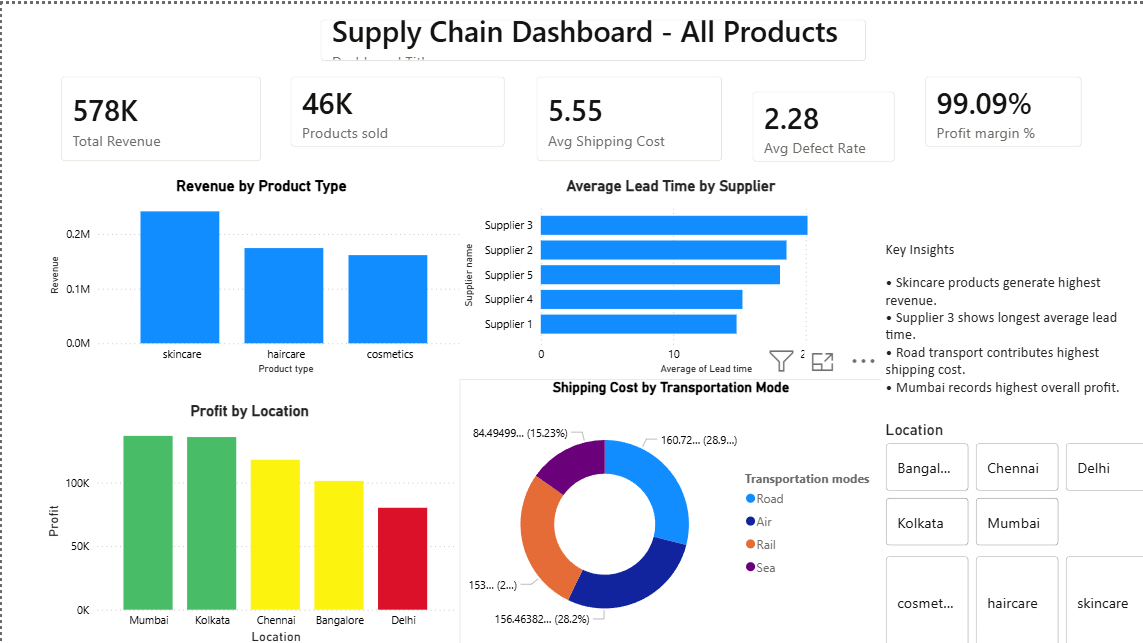

This screenshot's page, from the dashboard's own definition file:
{"tool":"powerbi","page":{"name":" Executive Dashboard","canvas":[1280,720],"ordinal":0},"visuals":[{"type":"cardVisual","fields":{"Data":["Sum(supply_chain_data.Revenue)"]},"box":[48,64,256,128],"z":0},{"type":"cardVisual","fields":{"Data":["Sum(supply_chain_data.Products sold)"]},"box":[304,64,272,112],"z":1000},{"type":"cardVisual","fields":{"Data":["Avg(supply_chain_data.Shipping Cost)"]},"box":[576,64,240,128],"z":2000},{"type":"cardVisual","fields":{"Data":["Avg(supply_chain_data.Defect Rate)"]},"box":[816,80,192,112],"z":3000},{"type":"clusteredColumnChart","title":"Revenue by Product Type","fields":{"Category":["supply_chain_data.Product type"],"Y":["Sum(supply_chain_data.Revenue)"]},"box":[48,192,480,224],"z":4000},{"type":"clusteredBarChart","title":"Average Lead Time by Supplier","fields":{"Category":["supply_chain_data.Supplier name"],"Y":["Avg(supply_chain_data.Lead time)"]},"box":[508,192,470,224],"z":5000},{"type":"donutChart","title":"Shipping Cost by Transportation Mode","fields":{"Category":["supply_chain_data.Transportation modes"],"Y":["Sum(supply_chain_data.Shipping Cost)"]},"box":[508,416,470,304],"z":6000},{"type":"advancedSlicerVisual","fields":{"Values":["supply_chain_data.Product type"]},"box":[976,608,304,112],"z":7000},{"type":"clusteredColumnChart","fields":{"Y":["Sum(supply_chain_data.Profit)"],"Category":["supply_chain_data.Location"]},"box":[44,442,464,274],"z":8000},{"type":"advancedSlicerVisual","fields":{"Values":["supply_chain_data.Location"]},"box":[976,464,304,144],"z":9000},{"type":"textbox","box":[976,256,304,208],"z":10000},{"type":"cardVisual","fields":{"Data":["supply_chain_data.Profit margin %"]},"box":[1008,64,208,112],"z":11000},{"type":"cardVisual","fields":{"Data":["supply_chain_data.Dashboard Title"]},"box":[336,0,640,80],"z":12000}]}

Visuals, with their boxes in screenshot pixels (x1, y1, x2, y2), scaled from the page's 1280x720 canvas onto the 1143x643 screenshot:
cardVisual - Sum(supply_chain_data.Revenue): crop(43, 57, 271, 171)
cardVisual - Sum(supply_chain_data.Products sold): crop(271, 57, 514, 157)
cardVisual - Avg(supply_chain_data.Shipping Cost): crop(514, 57, 729, 171)
cardVisual - Avg(supply_chain_data.Defect Rate): crop(729, 71, 900, 171)
"Revenue by Product Type" clusteredColumnChart: crop(43, 171, 471, 372)
"Average Lead Time by Supplier" clusteredBarChart: crop(454, 171, 873, 372)
"Shipping Cost by Transportation Mode" donutChart: crop(454, 372, 873, 642)
advancedSlicerVisual - supply_chain_data.Product type: crop(872, 543, 1142, 642)
clusteredColumnChart - Sum(supply_chain_data.Profit) x supply_chain_data.Location: crop(39, 395, 454, 639)
advancedSlicerVisual - supply_chain_data.Location: crop(872, 414, 1142, 543)
textbox: crop(872, 229, 1142, 414)
cardVisual - supply_chain_data.Profit margin %: crop(900, 57, 1086, 157)
cardVisual - supply_chain_data.Dashboard Title: crop(300, 0, 872, 71)
